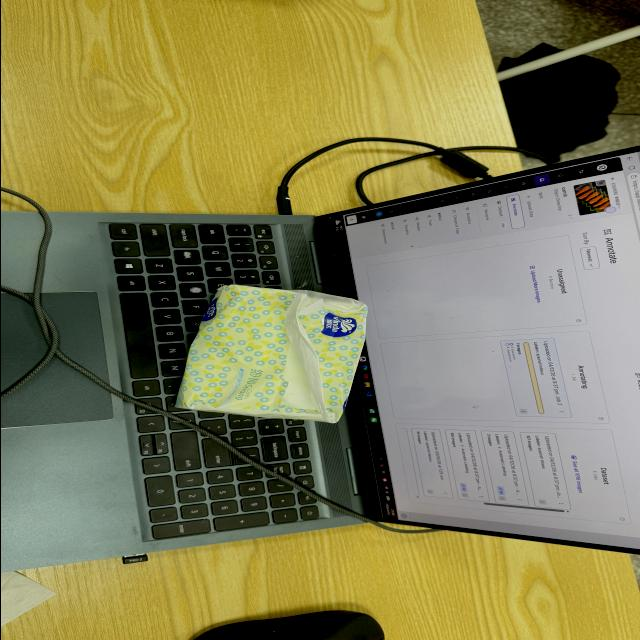tissue: (176, 286, 366, 422)
